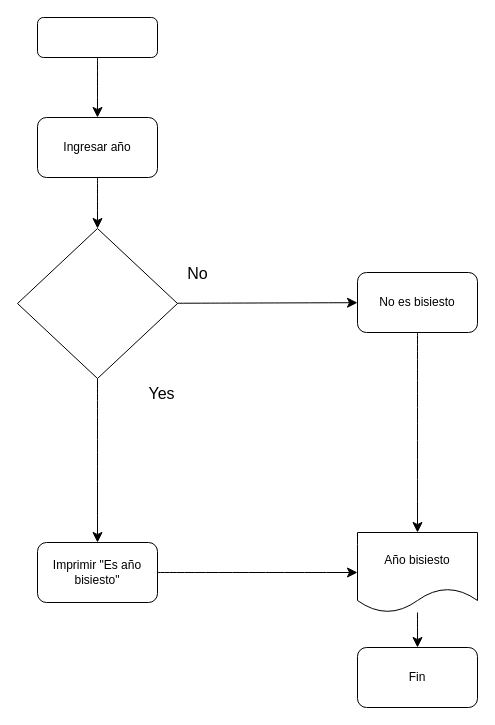
Image size: 495x725. Some labels were removed from this diagram. Each missing label, with the centre of its shape:
"Año es bisiesto" goes at (x=97, y=303).
"Inicio" goes at (x=97, y=37).
